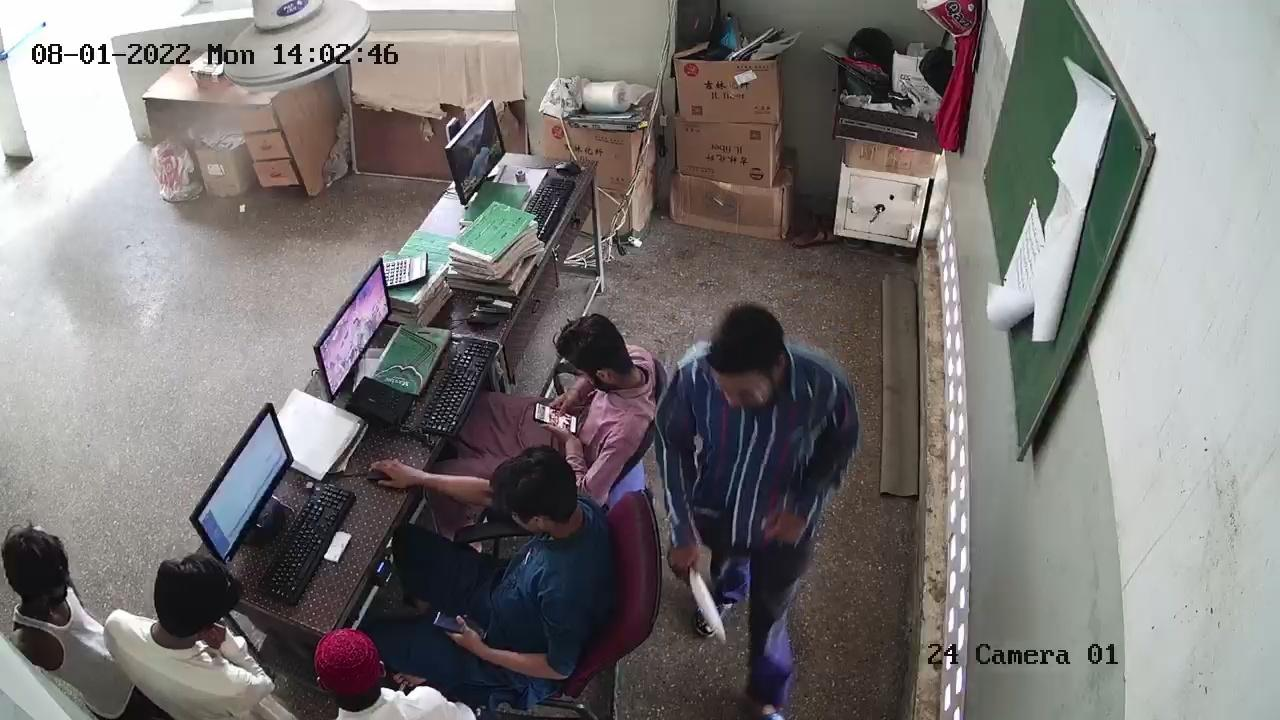person: (682, 307, 829, 705), (387, 457, 621, 657), (99, 562, 274, 713), (469, 313, 651, 445), (1, 525, 132, 693), (309, 628, 454, 720)
